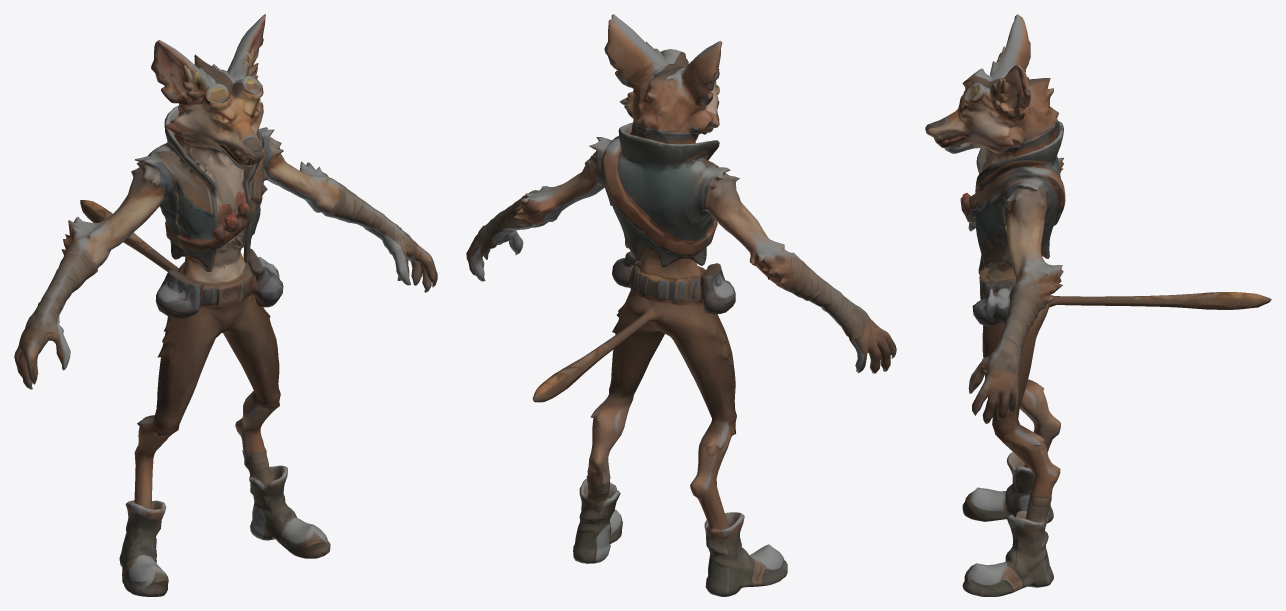
File: steampunk fox 3d model.glb
3 views of the same model, side by side, from view 1: azimuth 30°, elevation 25°; view 2: azimuth 150°, elevation 25°; view 3: azimuth 270°, elevation 25° (orthographic). The views are drawn at different scales.
Parts seen in each view (by area): view 1: tripo_node_daf2c0b1-df92-4d69-ac32-c3c18d81bb8b; view 2: tripo_node_daf2c0b1-df92-4d69-ac32-c3c18d81bb8b; view 3: tripo_node_daf2c0b1-df92-4d69-ac32-c3c18d81bb8b.
Boxes of the visible parts, left/top/right/bottom form: tripo_node_daf2c0b1-df92-4d69-ac32-c3c18d81bb8b: left=14, top=14, right=437, bottom=596; tripo_node_daf2c0b1-df92-4d69-ac32-c3c18d81bb8b: left=466, top=14, right=896, bottom=596; tripo_node_daf2c0b1-df92-4d69-ac32-c3c18d81bb8b: left=925, top=14, right=1271, bottom=596.
Bounding box in the file's own units: 0.8108 × 1 × 0.6106.
Materials: 1 (1 with a texture image).
